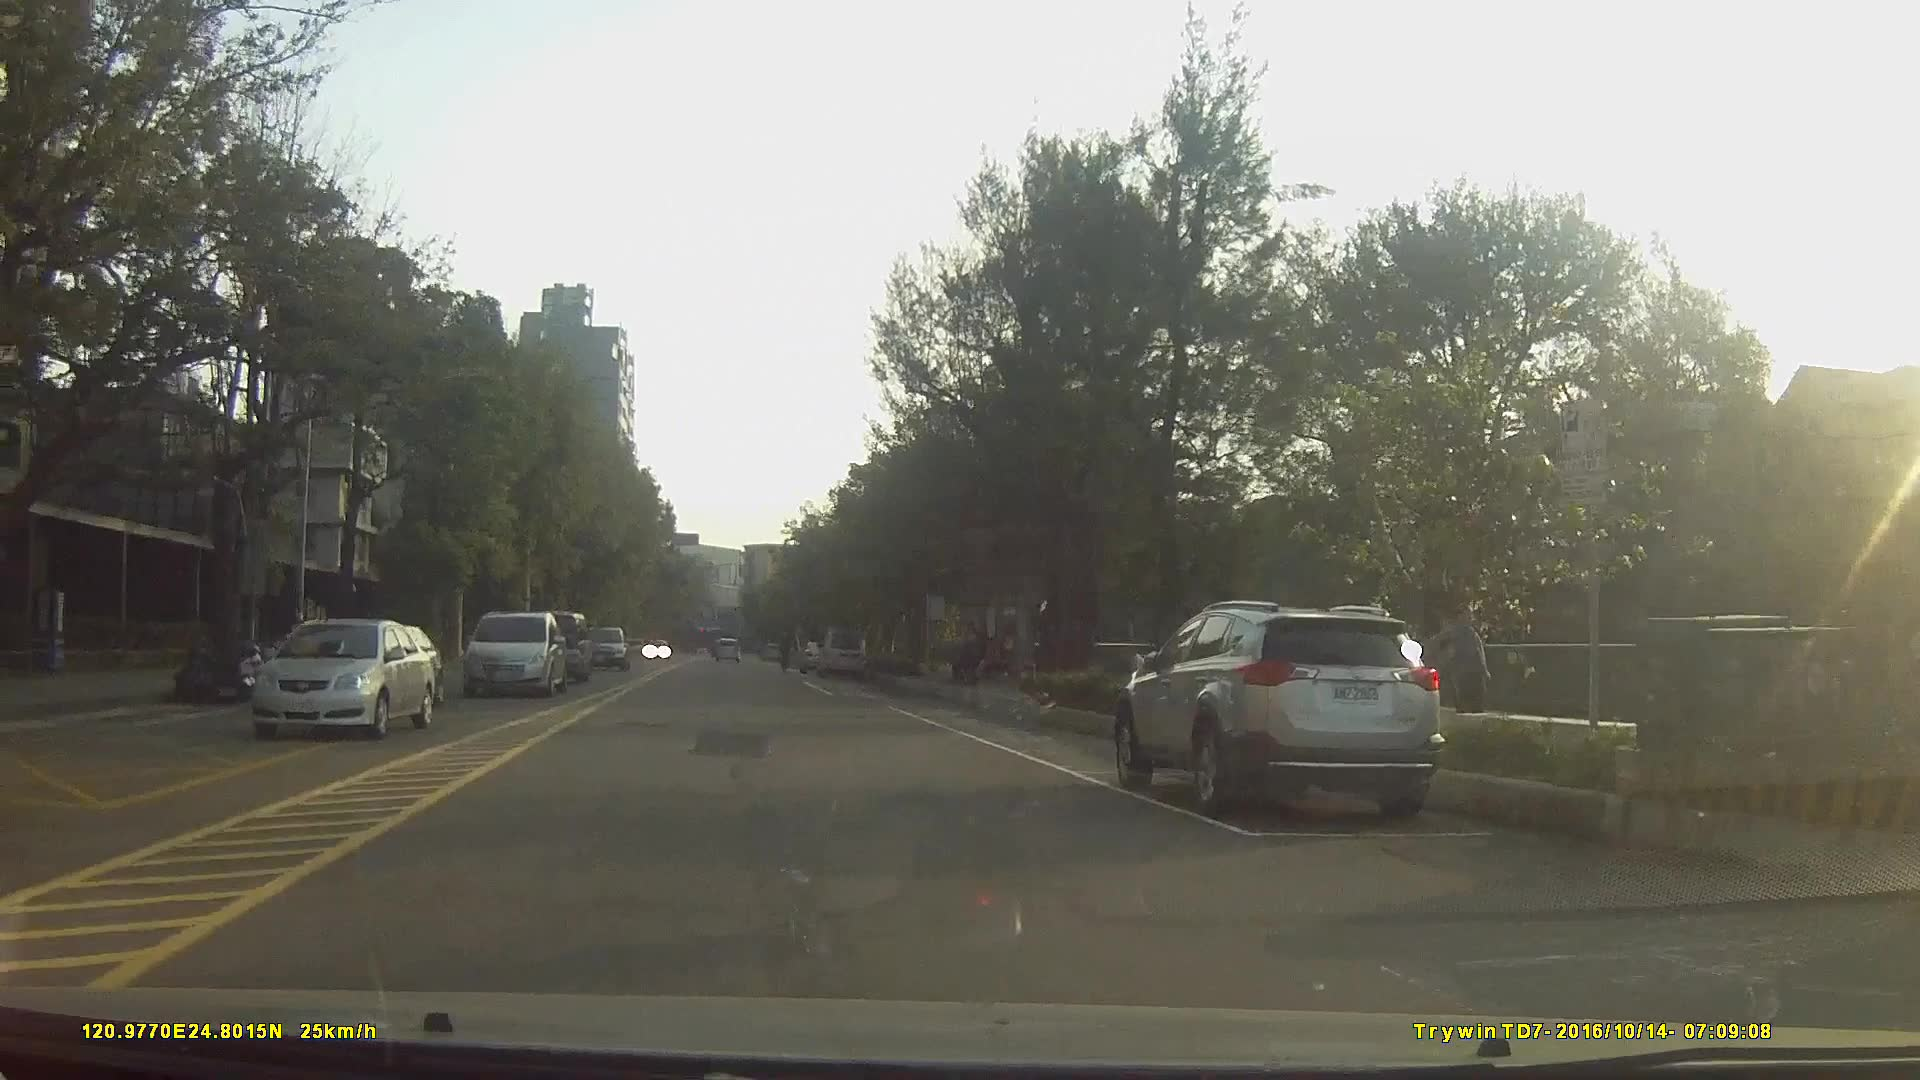vehicle: (1117, 596, 1444, 818), (249, 618, 435, 738), (462, 609, 564, 698), (816, 625, 869, 680), (576, 624, 628, 669), (795, 640, 831, 673), (713, 634, 741, 662)
